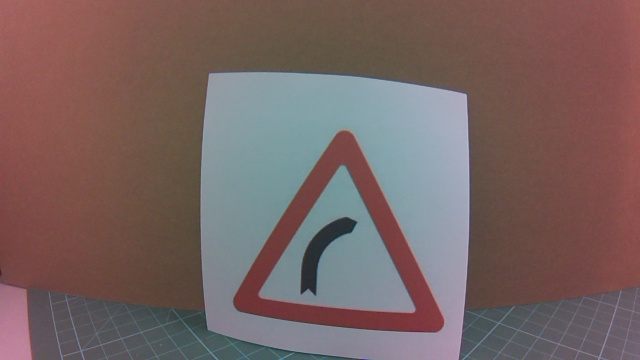right: (272, 148, 450, 324)
